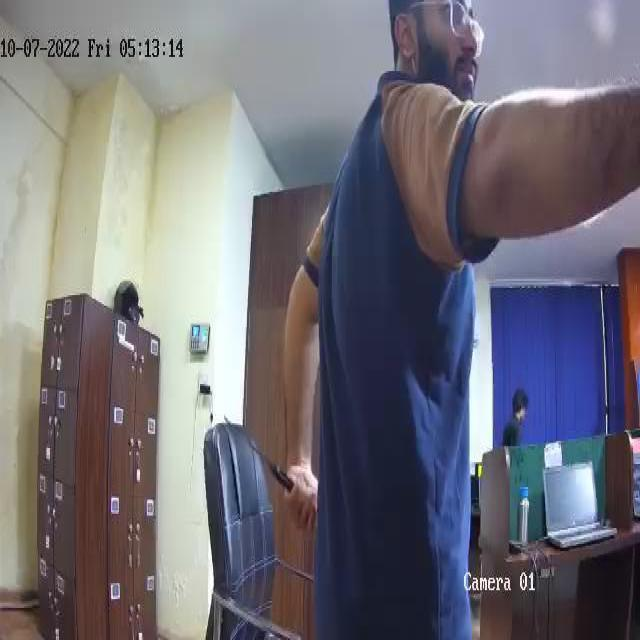faca: (223, 416, 307, 524)
